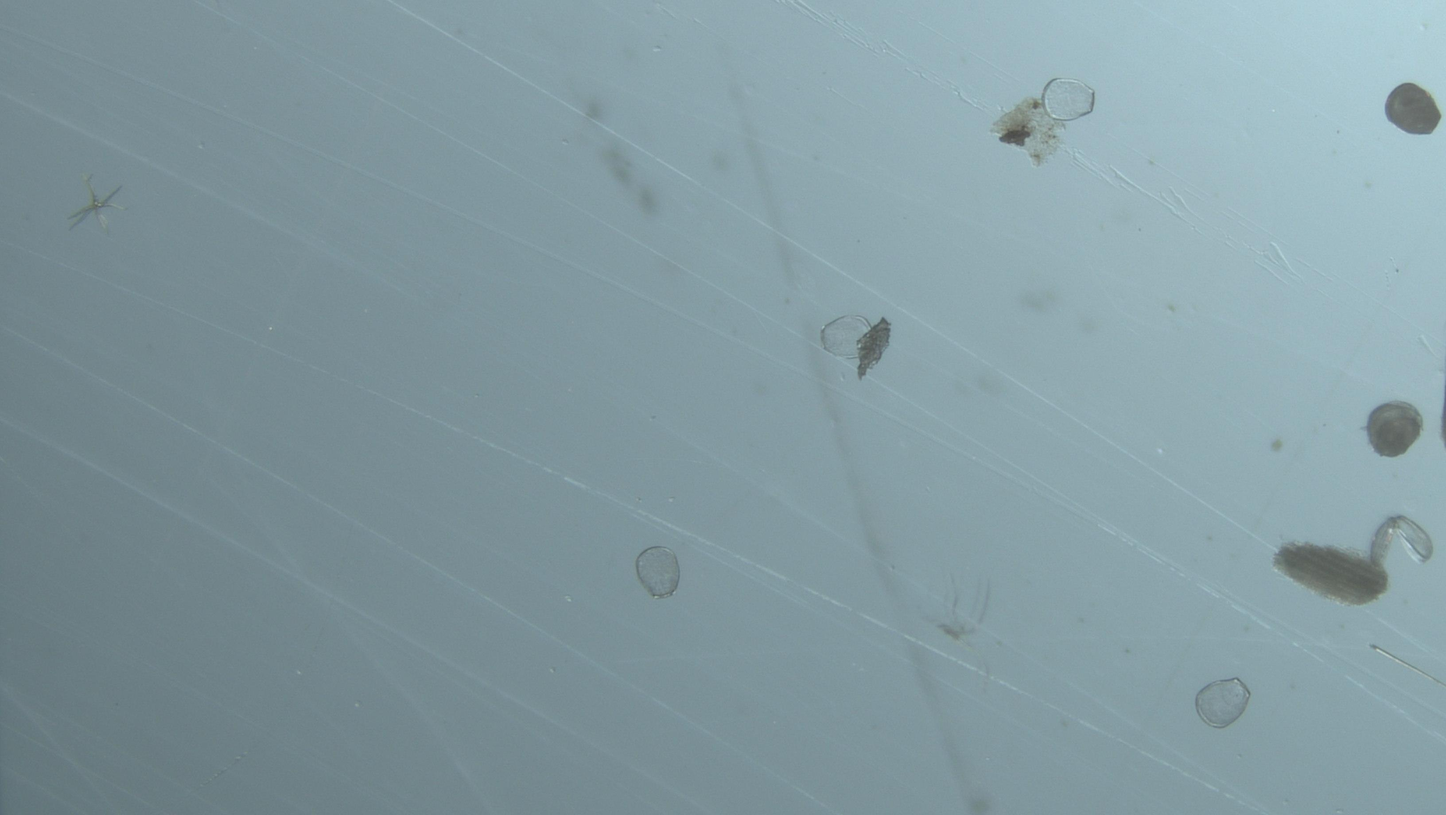dead: (1195, 678, 1251, 729), (1041, 78, 1095, 122), (820, 314, 872, 359), (636, 546, 680, 598)
live: (1366, 401, 1424, 458), (1386, 83, 1441, 135)
